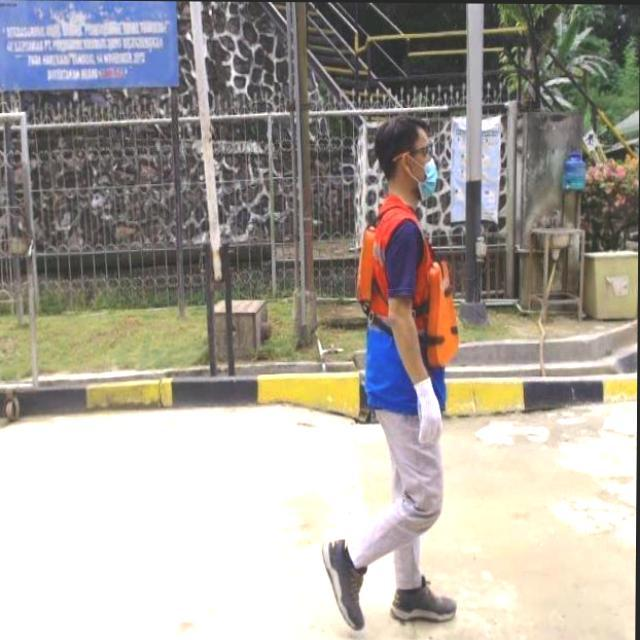goggles_on: (386, 141, 440, 166)
